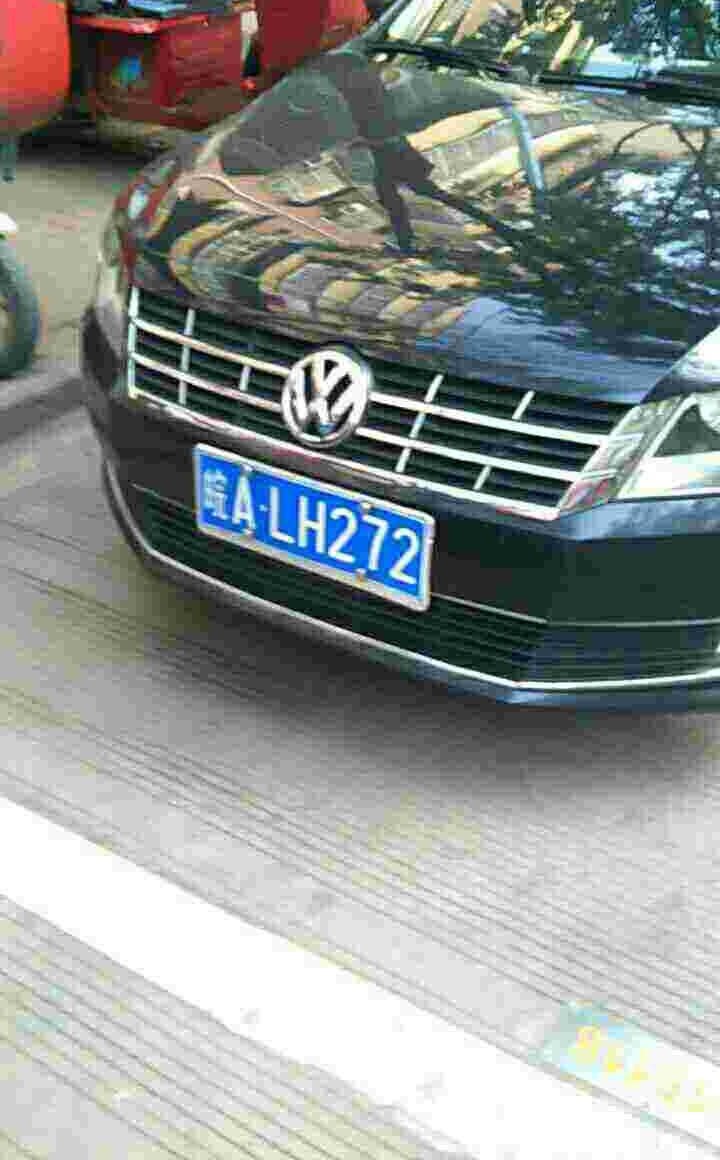license_plate: (191, 443, 439, 600)
